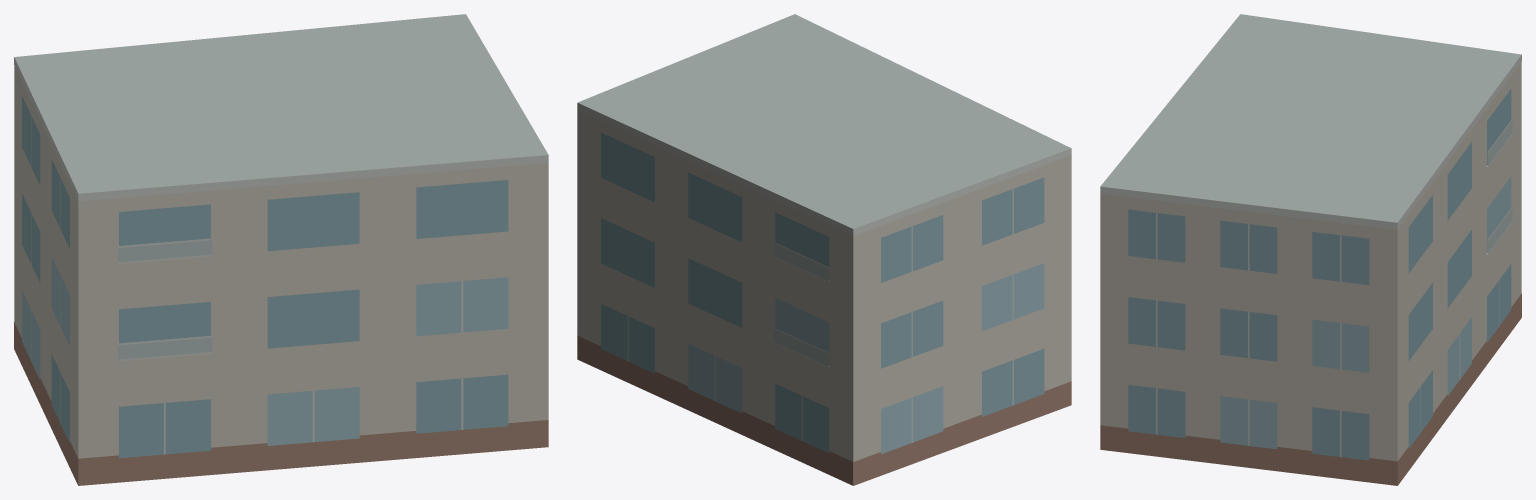
The model's file is survey-upis-32664004.glb.
3 renders of one model, left to right at view 1: azimuth 30°, elevation 25°; view 2: azimuth 150°, elevation 25°; view 3: azimuth 270°, elevation 25°, orthographic. The views are drawn at different scales.
Parts seen in each view (by area): view 1: survey-upis-32664004.tmp; view 2: survey-upis-32664004.tmp; view 3: survey-upis-32664004.tmp.
Part boxes in pixels (x1=…): survey-upis-32664004.tmp: x1=14, y1=14, x2=548, y2=485; survey-upis-32664004.tmp: x1=577, y1=14, x2=1071, y2=485; survey-upis-32664004.tmp: x1=1100, y1=14, x2=1521, y2=485.
Size of the model in its own units: 15.58 by 9.15 by 13.3.
